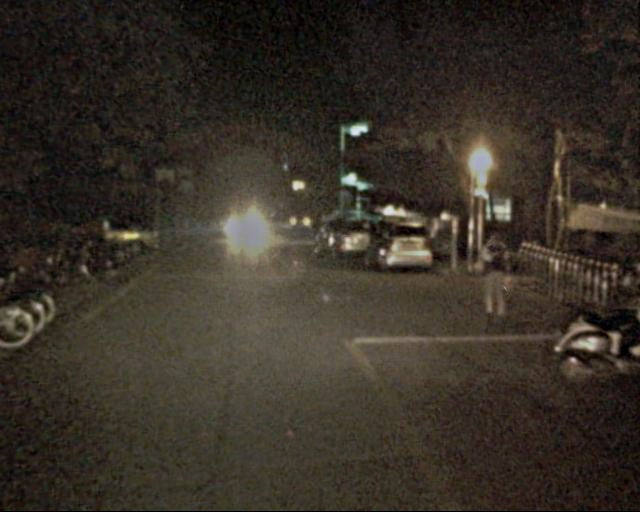person: (473, 226, 512, 320)
